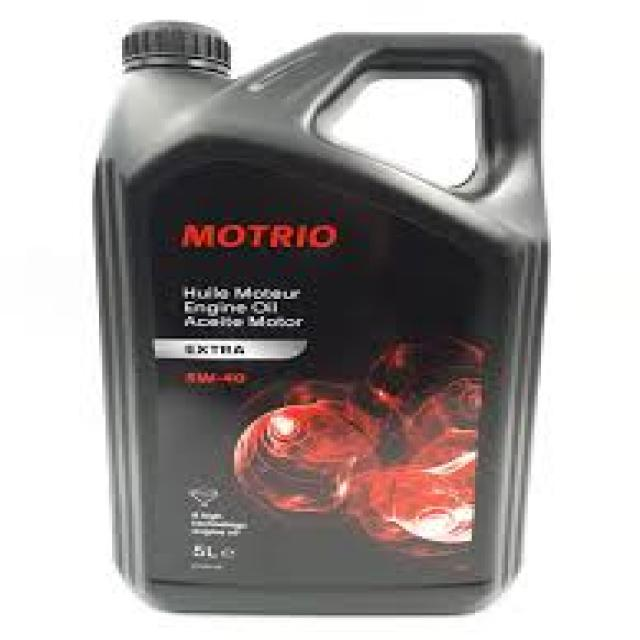motor_oil: (106, 16, 556, 620)
